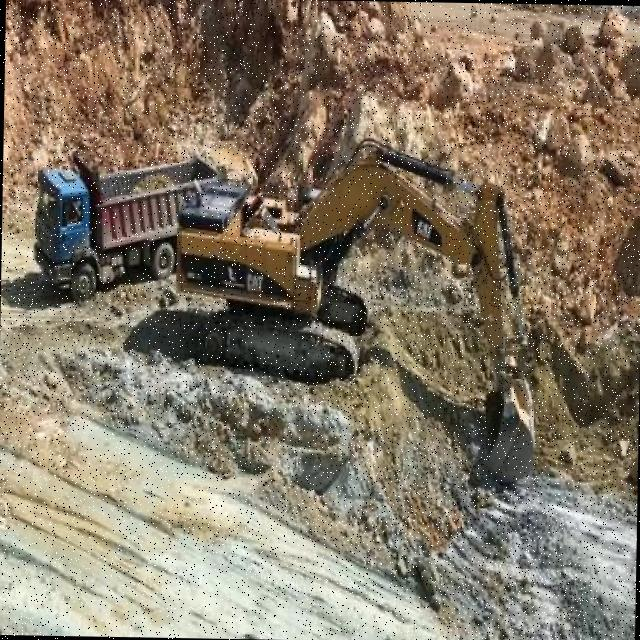Dump Truck: (29, 144, 220, 297)
Excavator: (162, 125, 550, 488)
